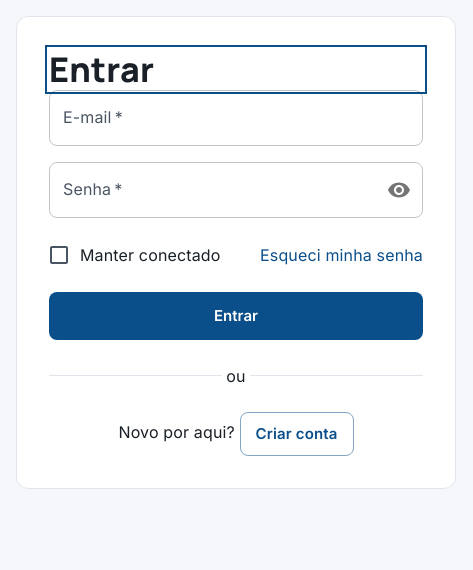
Login › 422: mostra "E-mail ou senha inválidos." sem indicar o campo
Type "maria@example.com" into the field labelled "E-mail *" at {"x": 236, "y": 118}, box [49,90,423,146]
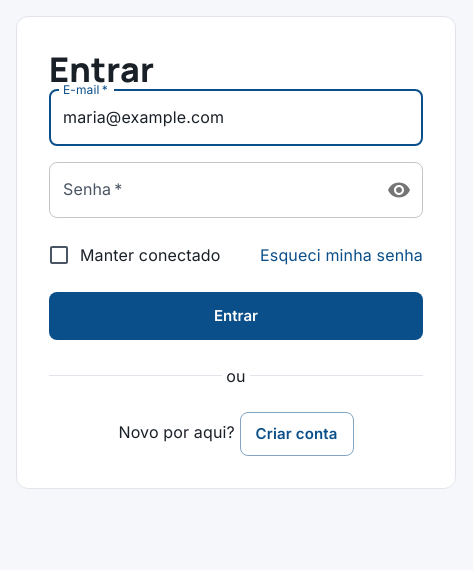
Type "errada123" into the password field labelled "Senha *" at {"x": 209, "y": 190}, box [49,162,369,218]
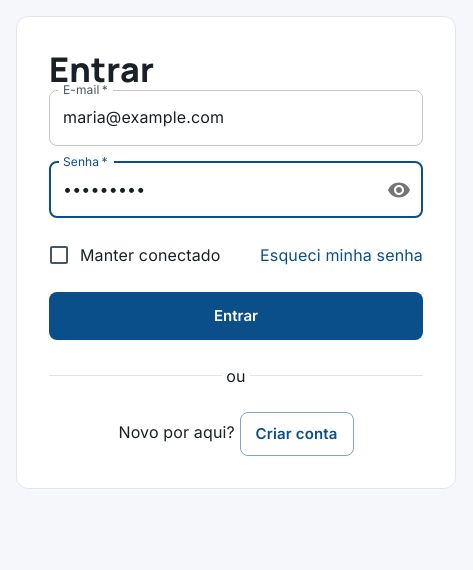
Click the button "Entrar" at {"x": 236, "y": 316}, box [49,292,423,340]
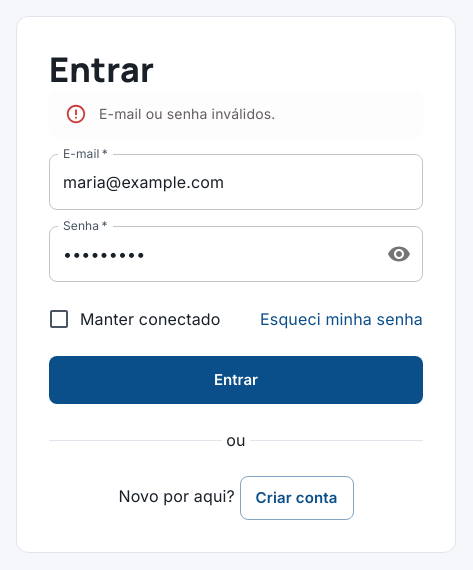
Check: the message reads "E-mail ou senha inválidos.", box [99,105,275,122]
